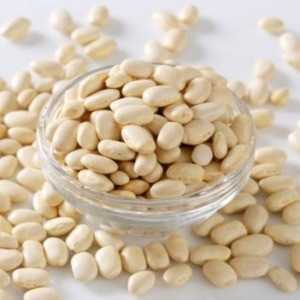beans_brain food: (56, 76, 258, 195)
